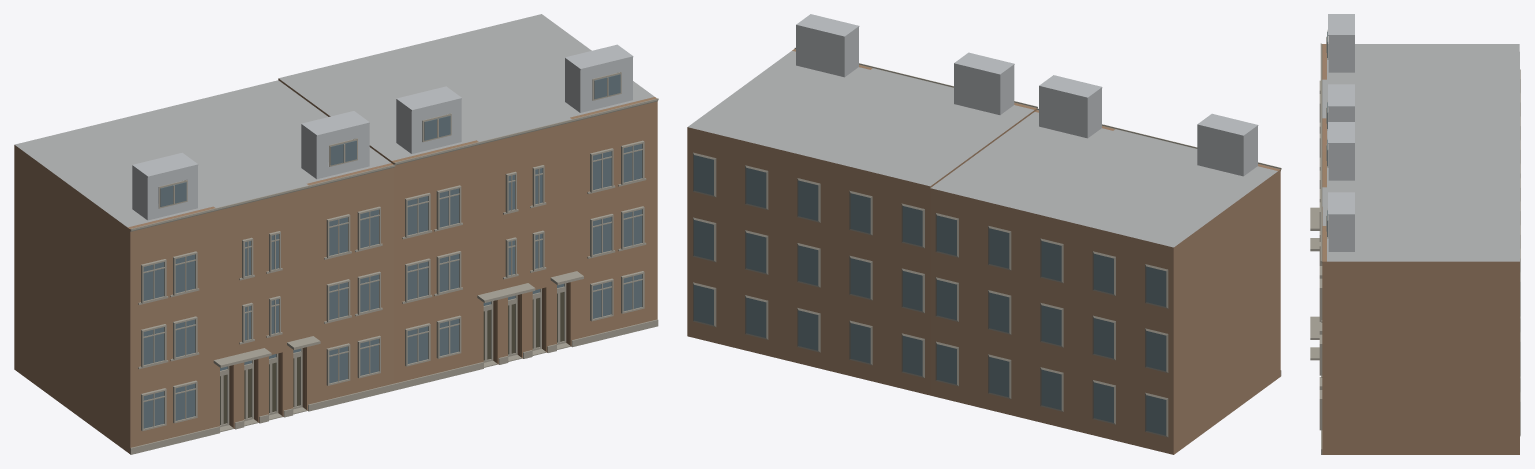
File: chunk-face-andringa-1-31-r1.glb
3 renders of one model, left to right at view 1: azimuth 30°, elevation 25°; view 2: azimuth 150°, elevation 25°; view 3: azimuth 270°, elevation 25°, orthographic. The views are drawn at different scales.
Visible parts, largest first — view 1: face-andringa-1-31-r1; view 2: face-andringa-1-31-r1; view 3: face-andringa-1-31-r1.
Part boxes in pixels (<box>): face-andringa-1-31-r1: <box>14,14,658,454</box>; face-andringa-1-31-r1: <box>687,14,1281,454</box>; face-andringa-1-31-r1: <box>1310,14,1520,454</box>.
Size of the model in its own units: 25.64 by 12.65 by 10.39.
